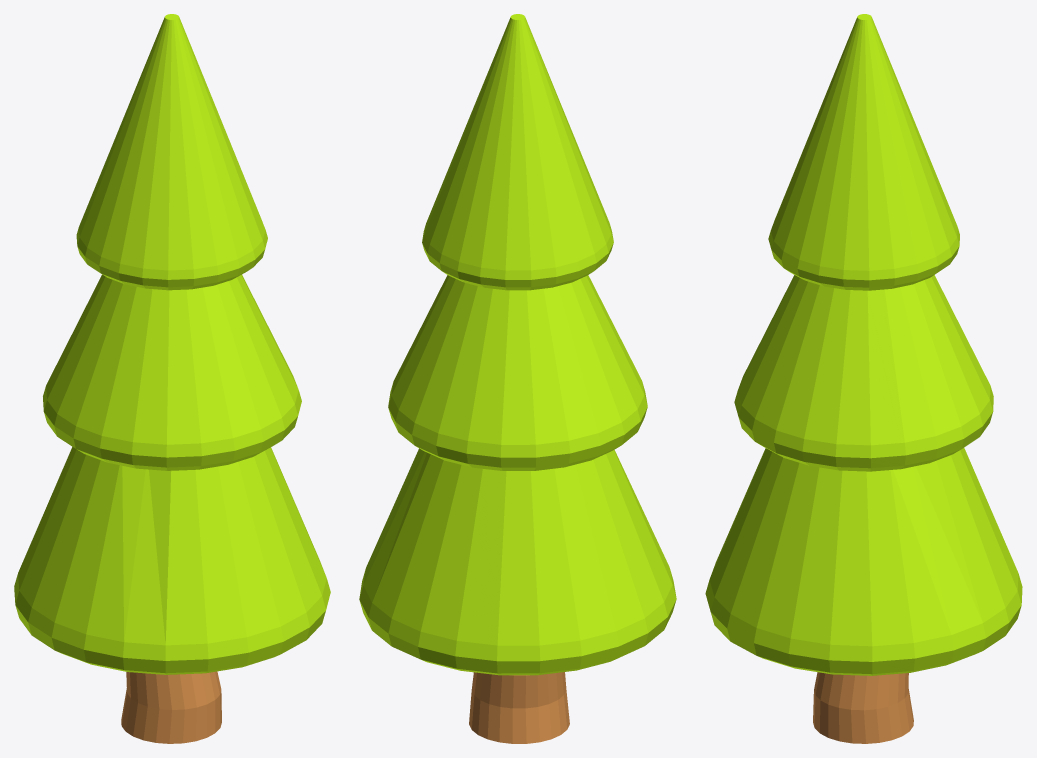
File: slim-pine.glb
3 renders of one model, left to right at view 1: azimuth 30°, elevation 25°; view 2: azimuth 150°, elevation 25°; view 3: azimuth 270°, elevation 25°, orthographic.
Visible parts, largest first — view 1: model; view 2: model; view 3: model.
Part boxes in pixels (x1=…): model: x1=14, y1=14, x2=330, y2=743; model: x1=359, y1=14, x2=676, y2=743; model: x1=705, y1=14, x2=1022, y2=743.
Size of the model in its own units: 0.2337 by 0.5736 by 0.2335.
